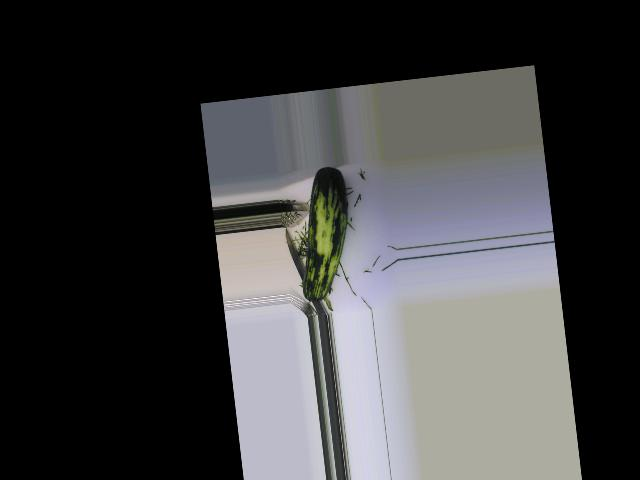cucumber: (289, 165, 358, 303)
